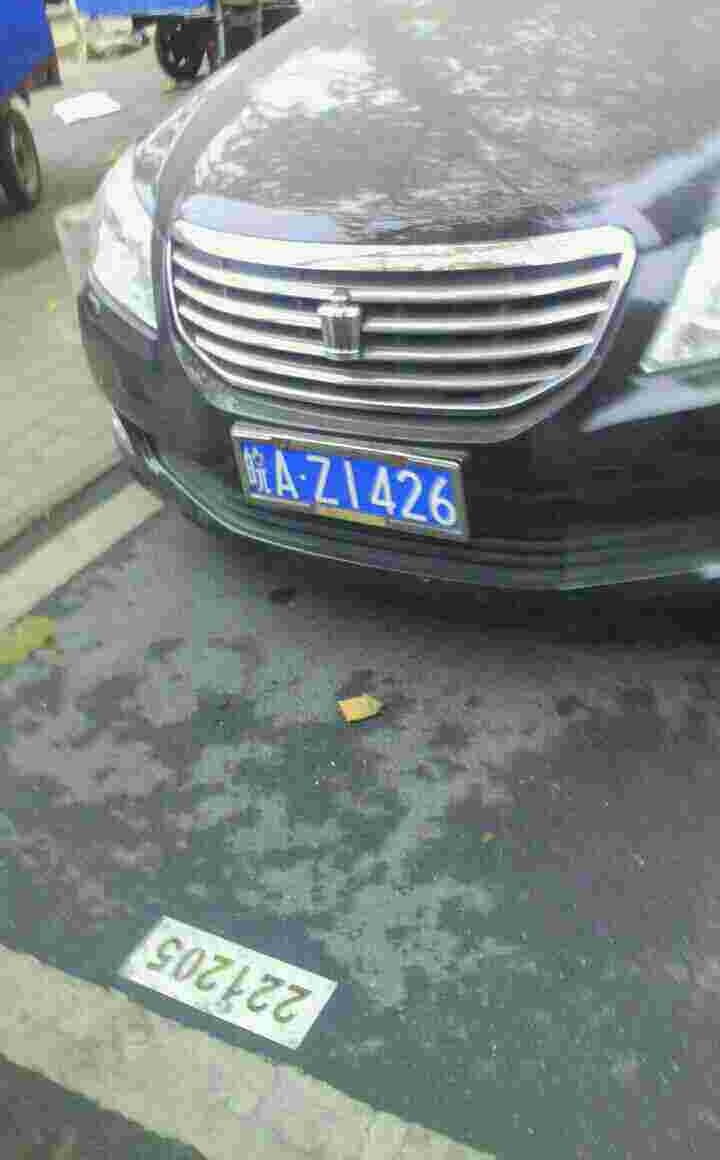license_plate: (248, 438, 474, 532)
